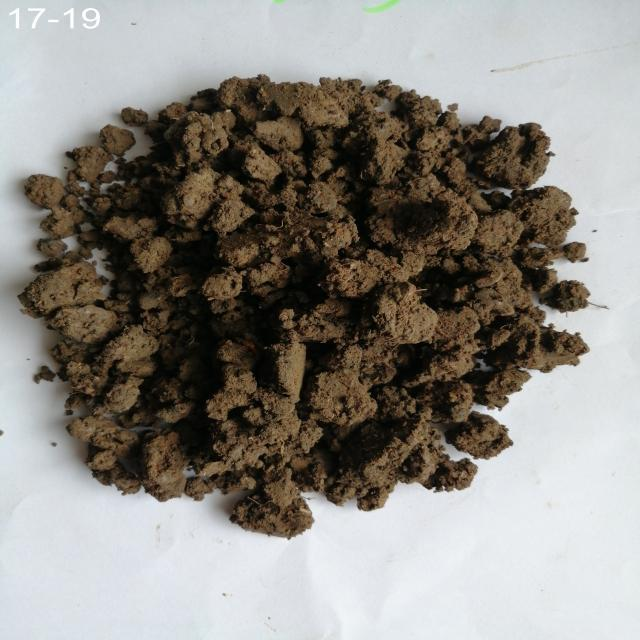soil: (122, 145, 479, 464)
